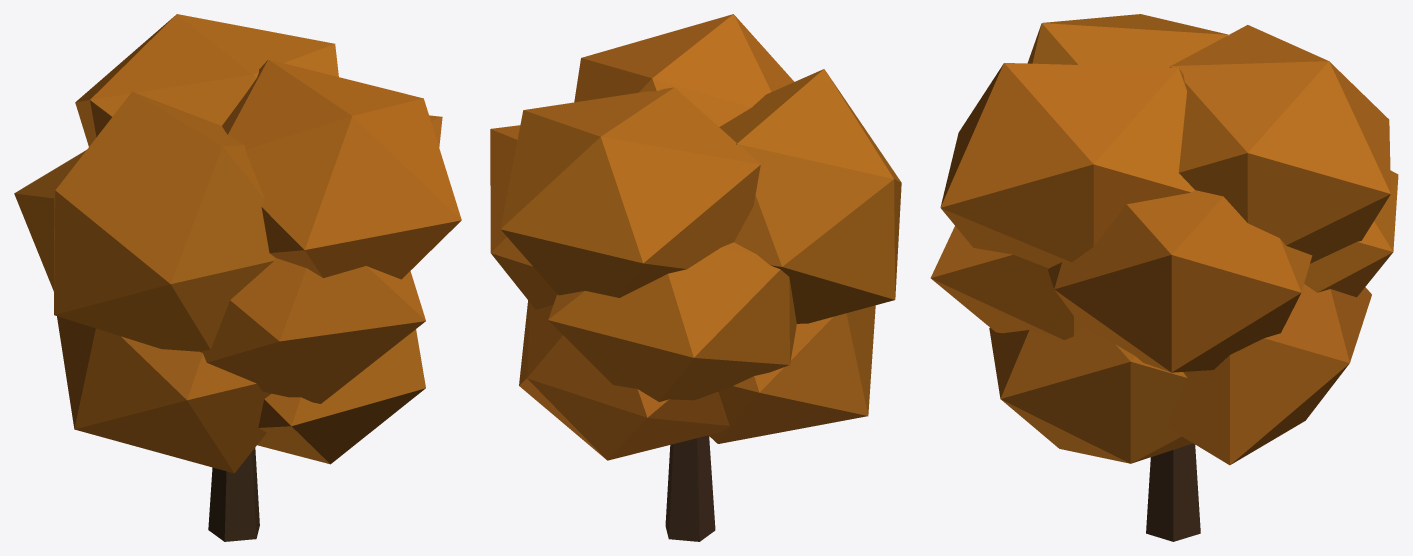
File: tree_autumn_maple.glb
3 renders of one model, left to right at view 1: azimuth 30°, elevation 25°; view 2: azimuth 150°, elevation 25°; view 3: azimuth 270°, elevation 25°, orthographic. The views are drawn at different scales.
Parts seen in each view (by area): view 1: tree_photo_amber; view 2: tree_photo_amber; view 3: tree_photo_amber.
Part boxes in pixels (x1,y1,x2,y2): tree_photo_amber: (14, 14, 461, 541); tree_photo_amber: (490, 14, 901, 541); tree_photo_amber: (930, 14, 1398, 541).
Bounding box in the file's own units: 0.5874 × 0.6488 × 0.5678.
